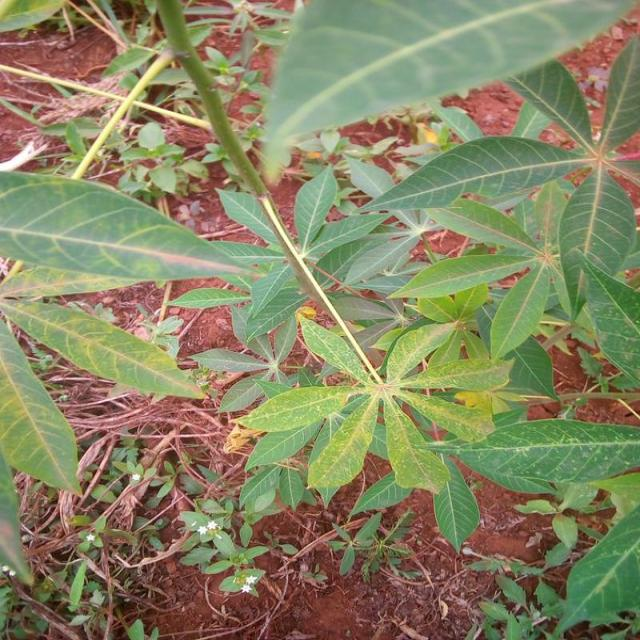cassava leaf: (1, 1, 638, 629), (259, 0, 638, 185), (0, 168, 280, 296), (1, 297, 206, 402)
